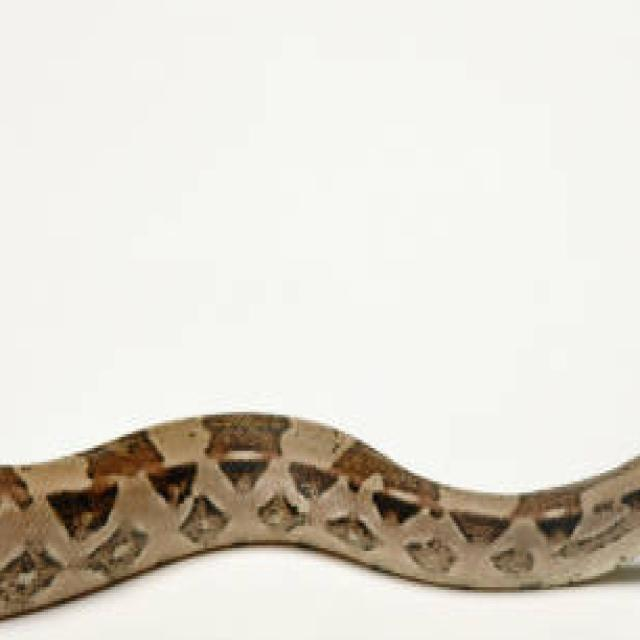snake: (0, 334, 640, 637)
